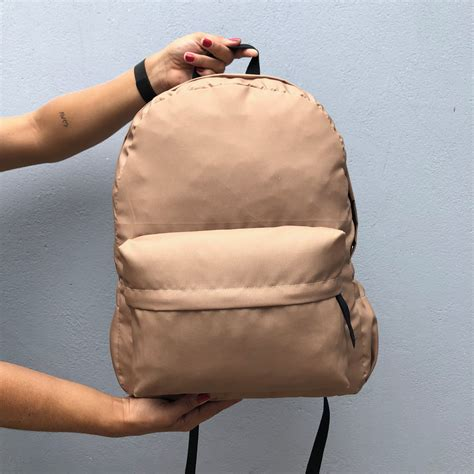nylon: (109, 73, 379, 399)
